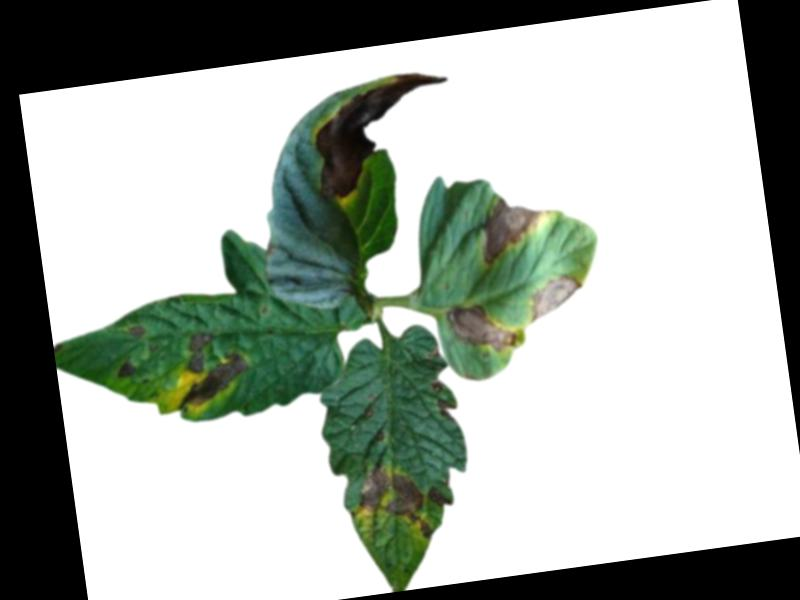Early_blight: (306, 67, 460, 201), (353, 457, 436, 546), (167, 326, 251, 410), (477, 191, 553, 263), (446, 295, 520, 359), (526, 271, 588, 322), (431, 376, 456, 423), (427, 483, 452, 511), (116, 358, 138, 379), (127, 320, 147, 337)
